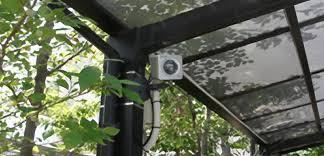tutu: (145, 47, 189, 86)
